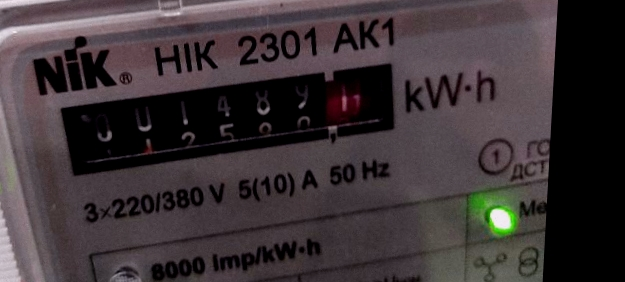0: (128, 96, 156, 134), (90, 108, 115, 144)
1: (333, 75, 354, 114), (173, 95, 194, 127)
4: (211, 87, 235, 119)
8: (251, 81, 274, 118)
9: (291, 77, 312, 110)
screen: (44, 34, 427, 205)
